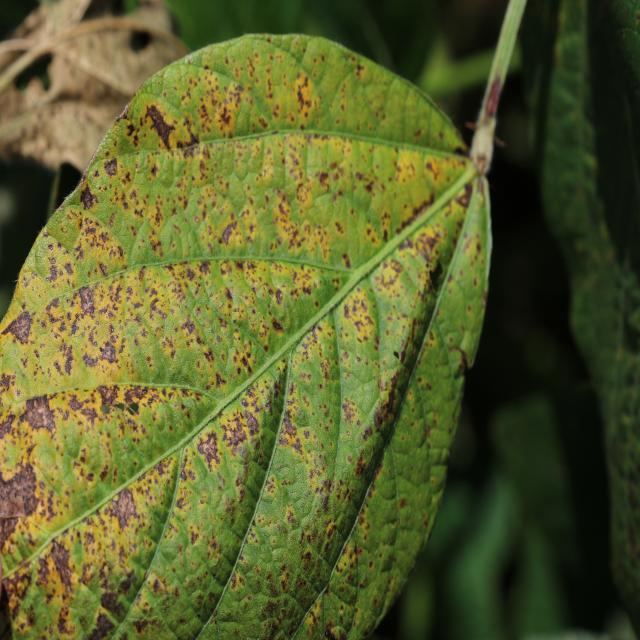Bacterial_Blight: (0, 460, 37, 546), (0, 559, 34, 636), (269, 189, 309, 250), (340, 287, 377, 352), (401, 222, 446, 269), (11, 51, 52, 92), (144, 103, 181, 148), (47, 538, 74, 596), (20, 395, 57, 434), (144, 189, 174, 236), (373, 379, 399, 430), (294, 71, 318, 122), (111, 488, 137, 533), (229, 336, 256, 379), (196, 431, 223, 471), (6, 310, 34, 344), (394, 149, 419, 186), (99, 586, 127, 619), (484, 75, 503, 119), (448, 344, 471, 375), (77, 284, 97, 315), (96, 384, 120, 408), (79, 184, 98, 211), (129, 30, 151, 53), (242, 409, 260, 437), (456, 181, 474, 209), (98, 341, 117, 365), (280, 414, 298, 439), (472, 152, 489, 175), (221, 221, 237, 245), (181, 316, 197, 338), (115, 102, 131, 124), (263, 598, 279, 620), (63, 348, 76, 375), (354, 452, 368, 477), (318, 490, 332, 513), (218, 106, 232, 127), (103, 157, 118, 176), (279, 569, 291, 592), (317, 171, 330, 189), (323, 625, 338, 640), (361, 425, 373, 442), (126, 401, 140, 415), (271, 318, 284, 333), (453, 145, 468, 158), (204, 348, 215, 364), (98, 262, 109, 277), (190, 529, 199, 545), (302, 550, 312, 563), (398, 496, 406, 510), (393, 350, 400, 361), (43, 228, 49, 238), (194, 215, 200, 224), (637, 13, 640, 24)
Soybean: (0, 35, 491, 639)
